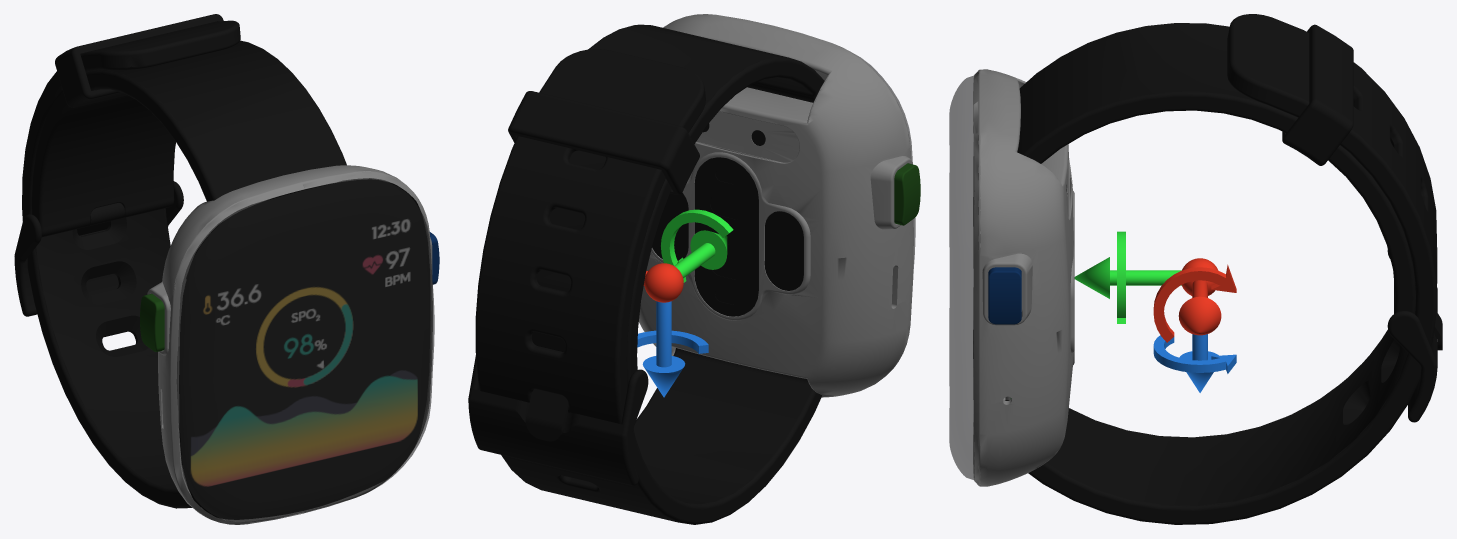
The model's file is watch.glb.
3 renders of one model, left to right at view 1: azimuth 30°, elevation 25°; view 2: azimuth 150°, elevation 25°; view 3: azimuth 270°, elevation 25°, orthographic. The views are drawn at different scales.
Visible parts, largest first — view 1: screen_cover, strap, screen_display, body, button_L; view 2: strap, body, base, axes, button_L; view 3: strap, body, screen_cover, axes, button_R.
Part boxes in pixels (bbox=[...]): screen_cover: bbox=[176, 178, 434, 522]; strap: bbox=[14, 14, 346, 508]; screen_display: bbox=[179, 179, 430, 519]; body: bbox=[147, 165, 432, 524]; button_L: bbox=[140, 293, 164, 351]; strap: bbox=[468, 24, 824, 524]; body: bbox=[639, 14, 913, 397]; base: bbox=[652, 123, 803, 316]; axes: bbox=[637, 209, 733, 397]; button_L: bbox=[894, 163, 920, 225]; strap: bbox=[1017, 14, 1442, 524]; body: bbox=[973, 69, 1074, 486]; screen_cover: bbox=[949, 75, 974, 479]; axes: bbox=[1074, 231, 1236, 392]; button_R: bbox=[988, 267, 1021, 324].
Size of the model in its own units: 42.2 by 59.54 by 59.06.
Materials: 11 (1 with a texture image).
